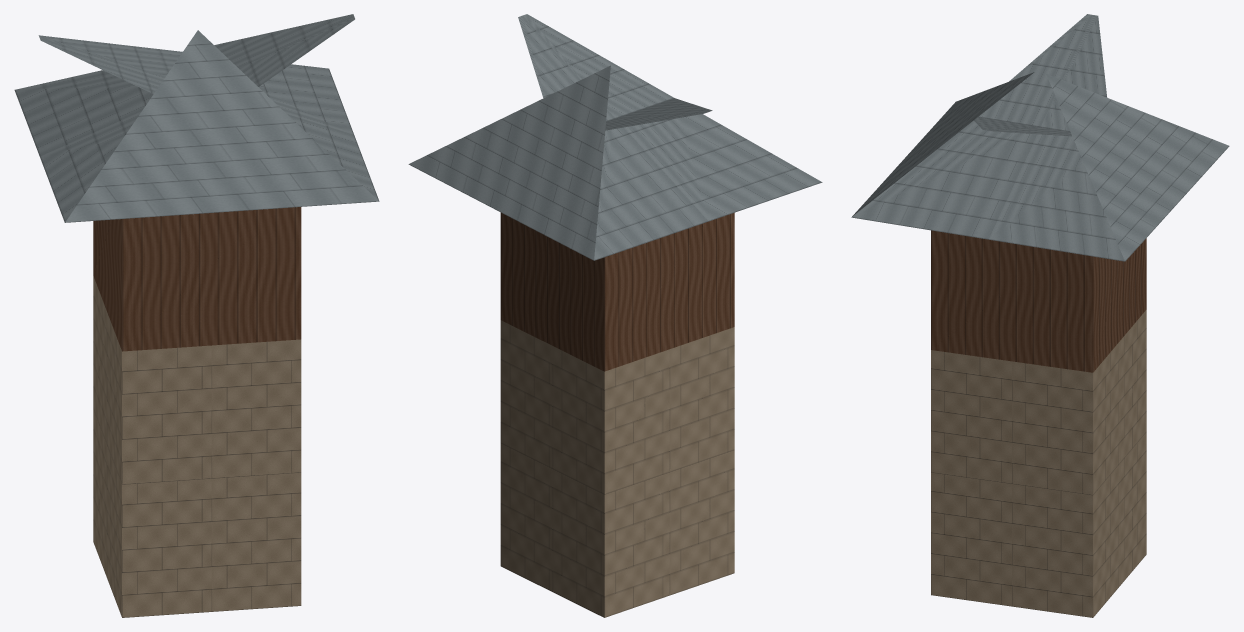
Rendered from bld_c-3_-1_540.gltf.
3 views of the same model, side by side, from view 1: azimuth 30°, elevation 25°; view 2: azimuth 150°, elevation 25°; view 3: azimuth 270°, elevation 25° (orthographic). The views are drawn at different scales.
Parts seen in each view (by area): view 1: bld_c-3_-1_540; view 2: bld_c-3_-1_540; view 3: bld_c-3_-1_540.
Boxes of the visible parts, bbox=[...] form: bld_c-3_-1_540: bbox=[14, 14, 379, 617]; bld_c-3_-1_540: bbox=[408, 14, 822, 617]; bld_c-3_-1_540: bbox=[851, 14, 1229, 617].
Size of the model in its own units: 6.45 by 9.45 by 6.45.
3 materials, 3 textured.
